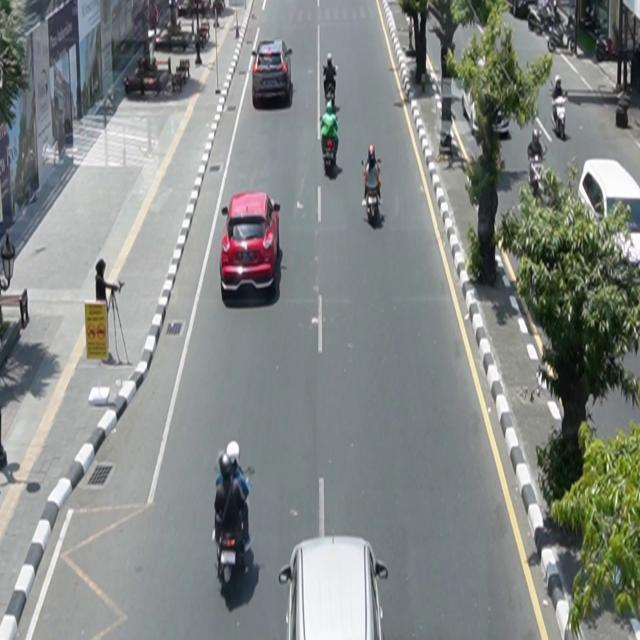car: (280, 535, 390, 640), (578, 158, 640, 270), (220, 191, 281, 299), (253, 40, 294, 108)
